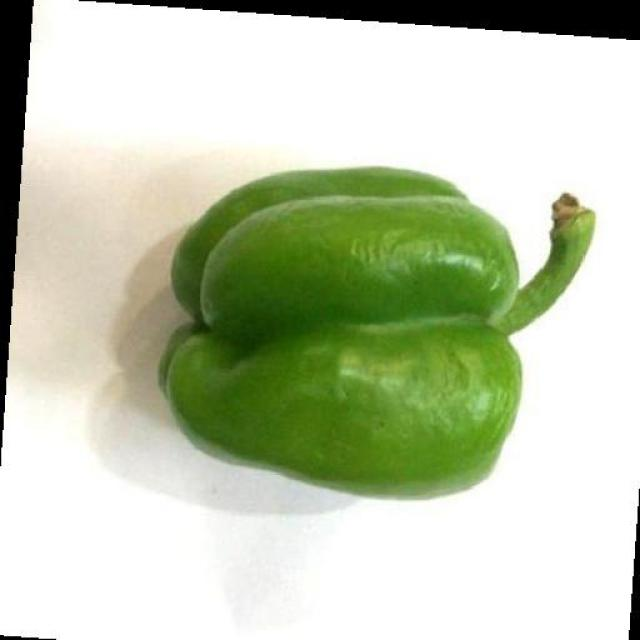Fresh_Capsicum: (146, 124, 602, 479)
